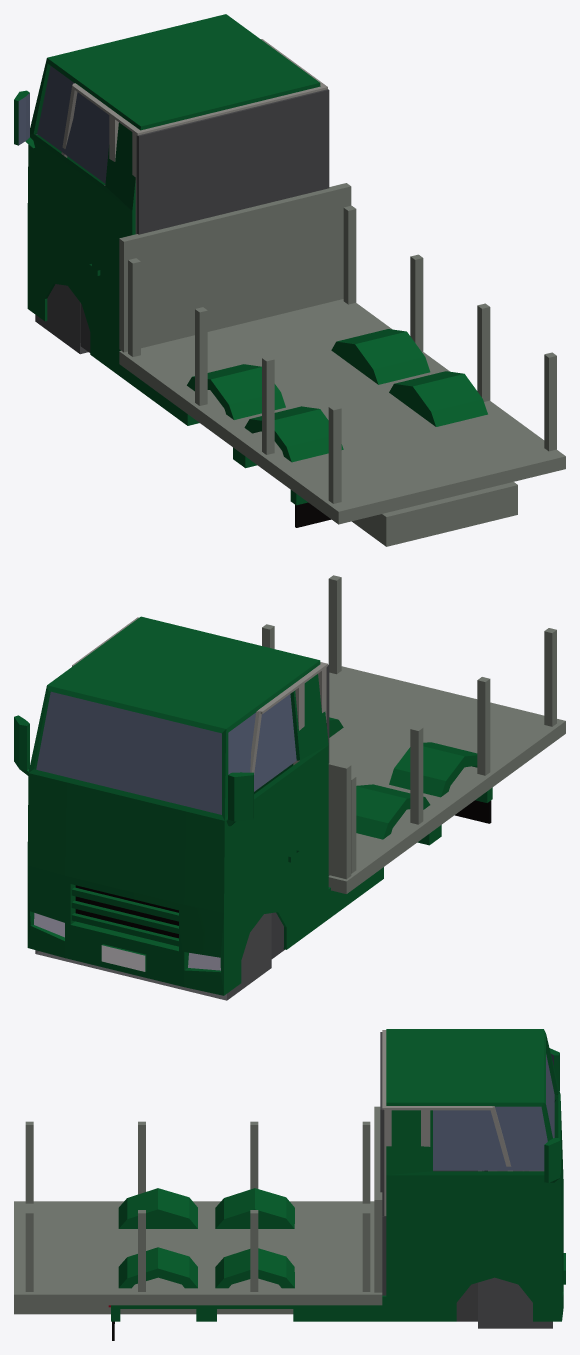
File: truck.glb
The picture shows the model from 3 angles, top to bottom: view 1: azimuth 30°, elevation 25°; view 2: azimuth 150°, elevation 25°; view 3: azimuth 270°, elevation 25°; orthographic projection. The views are drawn at different scales.
Visible parts, largest first — view 1: bed, body, interior, bay; view 2: body, bed, hood, interior, bay; view 3: body, bed, interior, bay.
Boxes of the visible parts, <box> form: bed: <box>119,183,565,546</box>; body: <box>14,14,487,527</box>; interior: <box>61,39,329,352</box>; bay: <box>35,284,88,354</box>; body: <box>14,616,492,995</box>; bed: <box>262,575,565,893</box>; hood: <box>27,865,223,968</box>; interior: <box>72,617,329,958</box>; bay: <box>35,913,271,1000</box>; body: <box>108,1029,565,1340</box>; bed: <box>14,1106,382,1314</box>; interior: <box>380,1030,528,1321</box>; bay: <box>478,1170,552,1328</box>.
Bounding box in the file's own units: 2.94 × 3.29 × 7.
